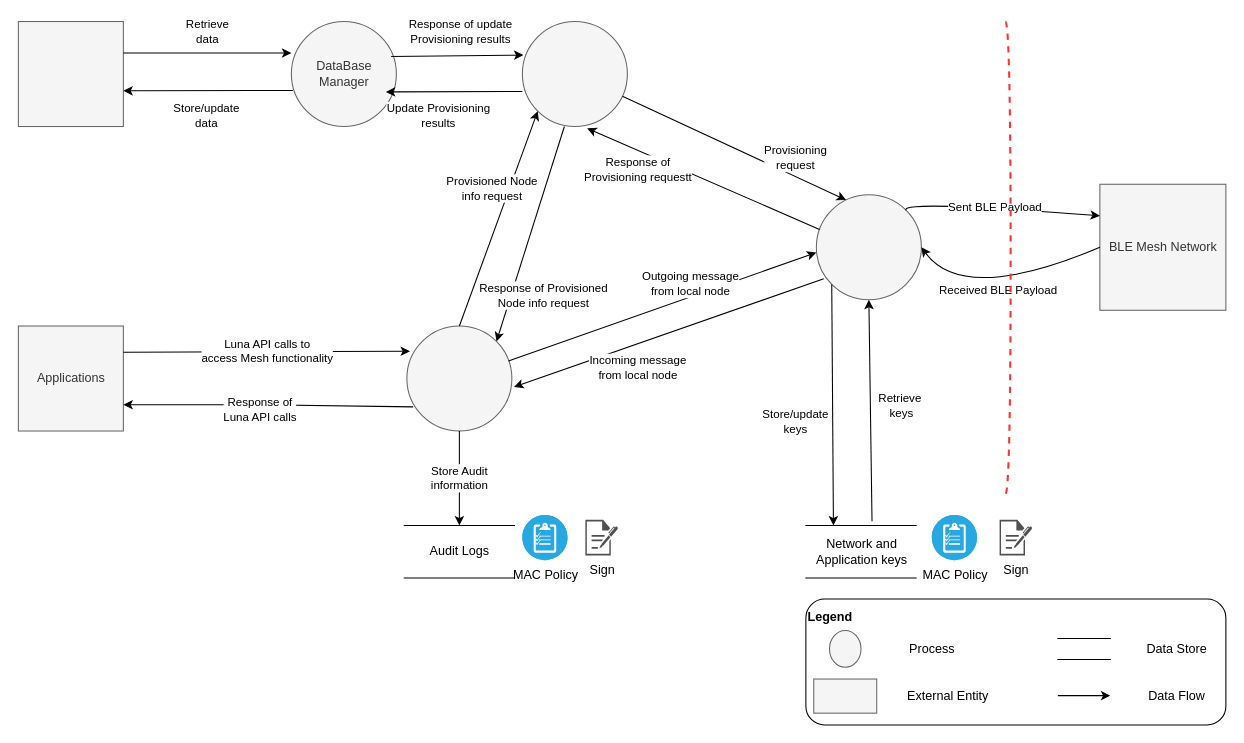
Some shapes in this 1244 by 743 pixel diagram are drawn without their labels. The shapes that lost their labels are listed below. From the top down, each one's centre as x and y in pixels, then its label:
(70,73): DB8 Luna service
(574,73): Provisioning Agent
(868,247): bluetooth- meshd
(459,378): Node Element manager
